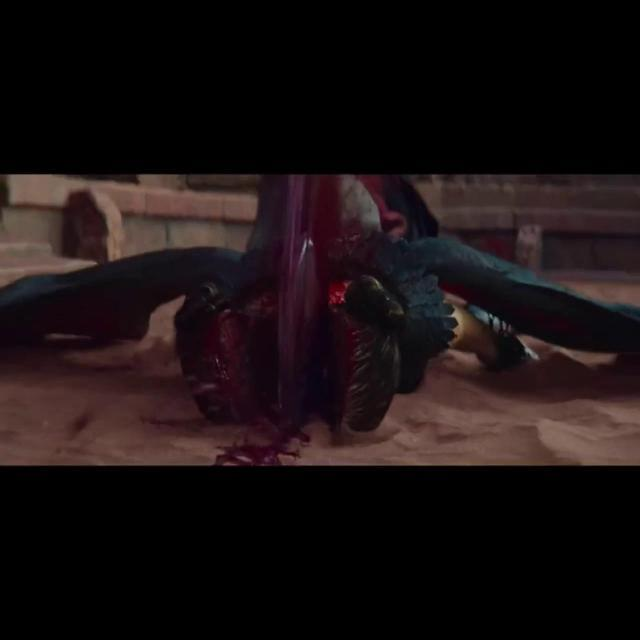blood: (196, 174, 406, 468), (64, 406, 95, 440), (141, 418, 204, 434)
